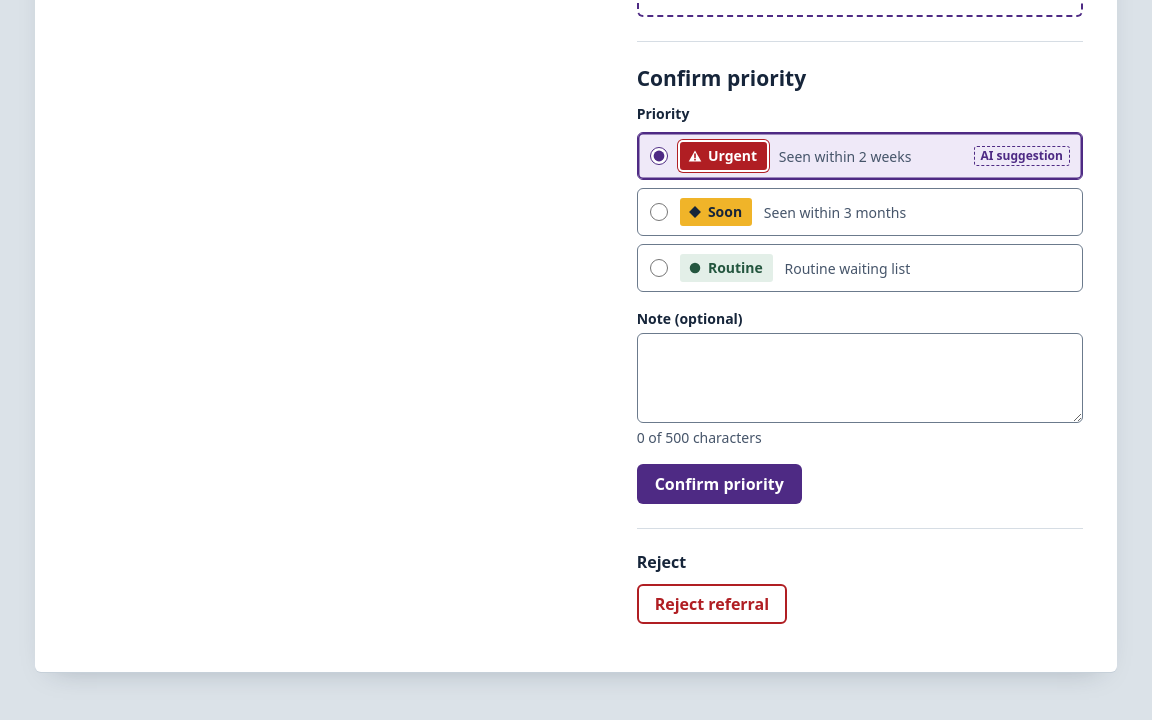
referral detail › confirms the suggested priority and the status becomes Triaged
(page scrolled)
Expected: the radio button labelled "Urgent Seen within 2 weeks AI suggestion" is checked, [650, 147, 668, 165]
Type "Agree with the suggestion." into the text box labelled "Note (optional)". click: (860, 378)
box: [637, 333, 1083, 423]
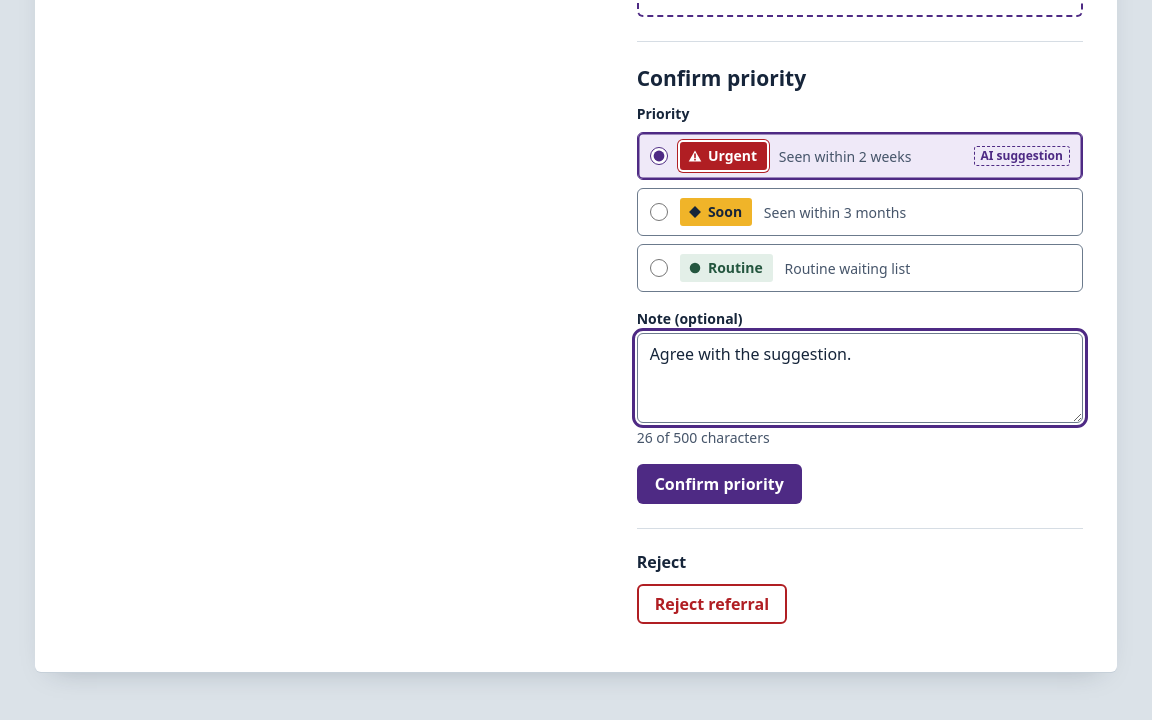
Click the button "Confirm priority". click: (719, 484)
box: [637, 464, 802, 504]
(page scrolled)
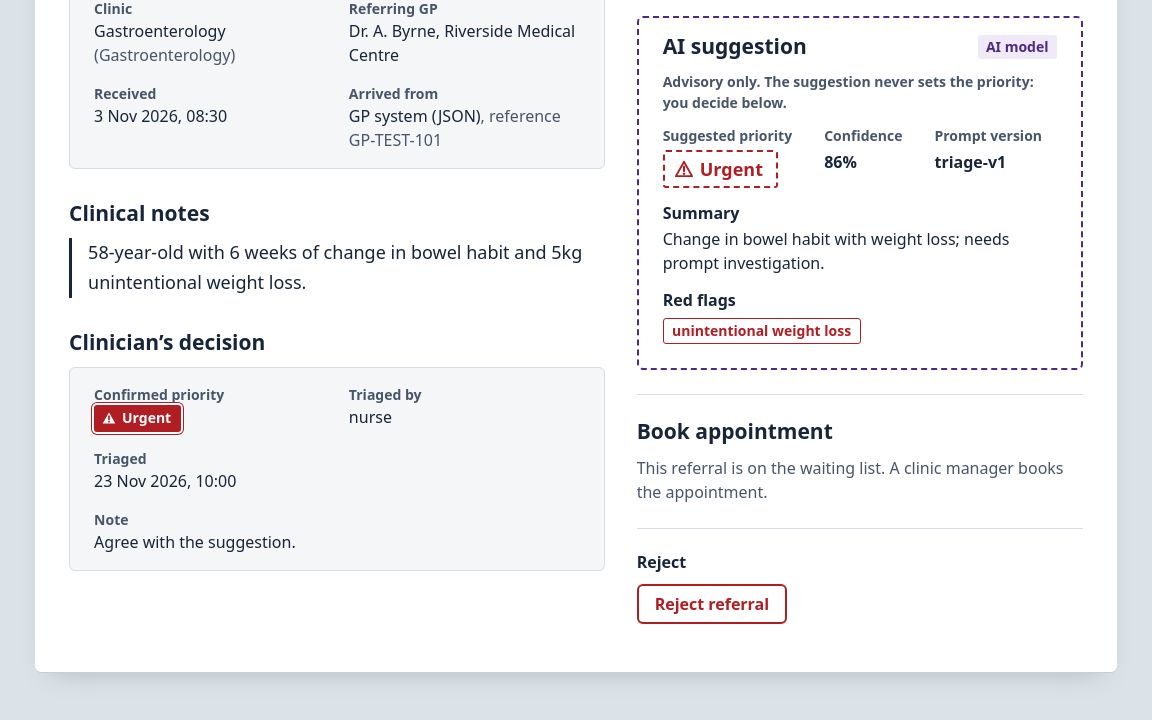
Now the heading "Confirm priority" is gone
Now the text "Agree with the suggestion." is shown, box [94, 531, 296, 553]
